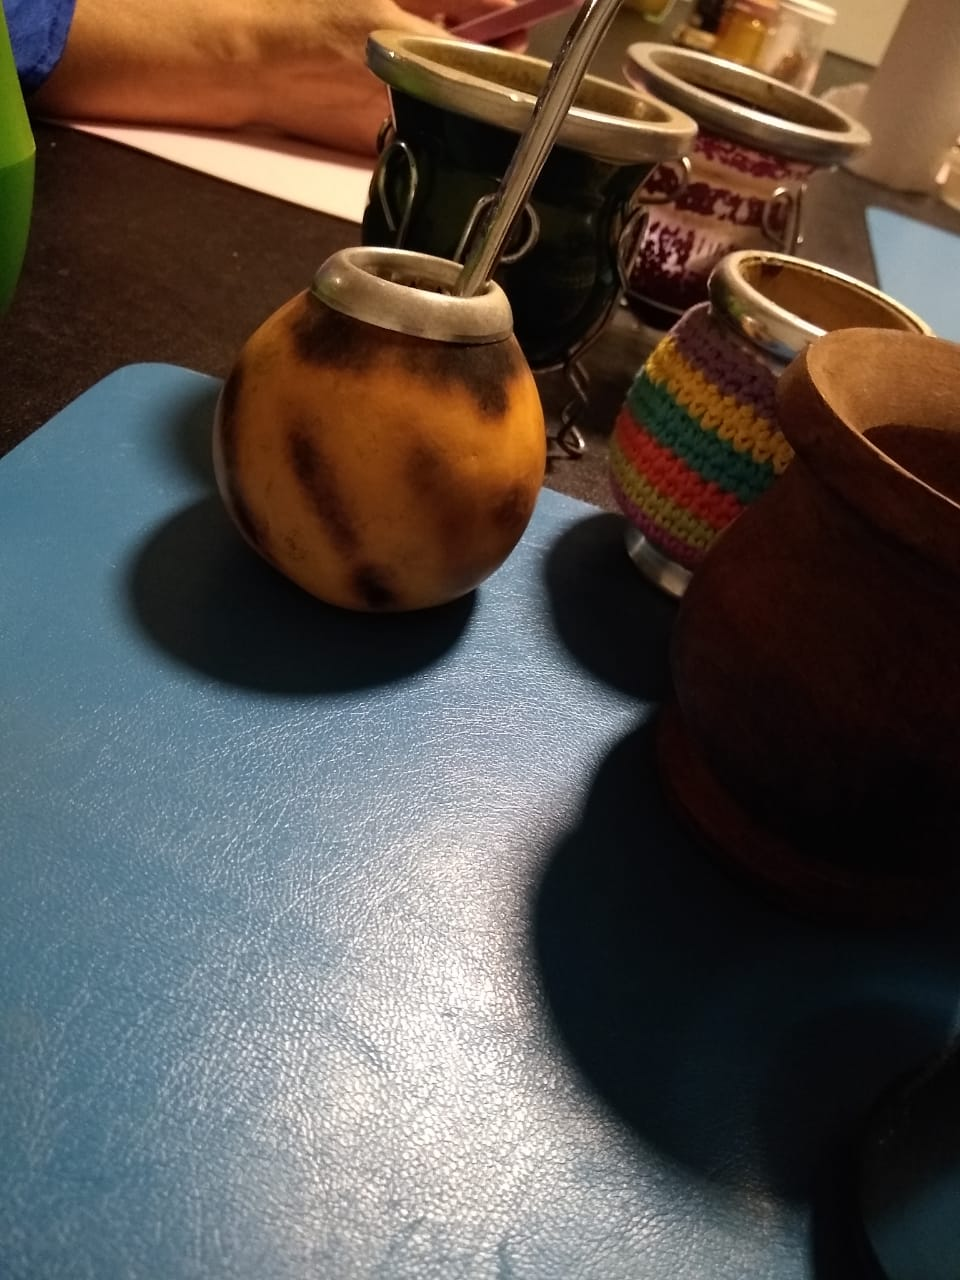calabaza: (198, 1, 631, 619)
mate: (200, 1, 633, 619)
